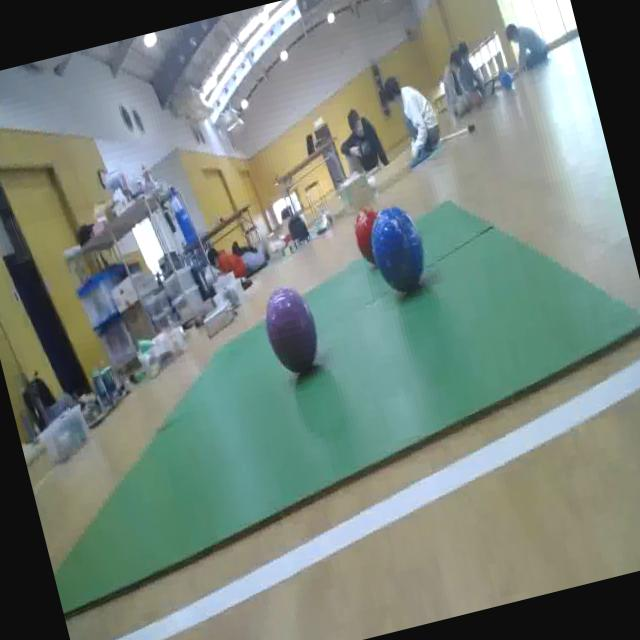blue_ball: (362, 196, 444, 300)
purple_ball: (250, 278, 330, 384)
red_ball: (350, 204, 395, 272)
